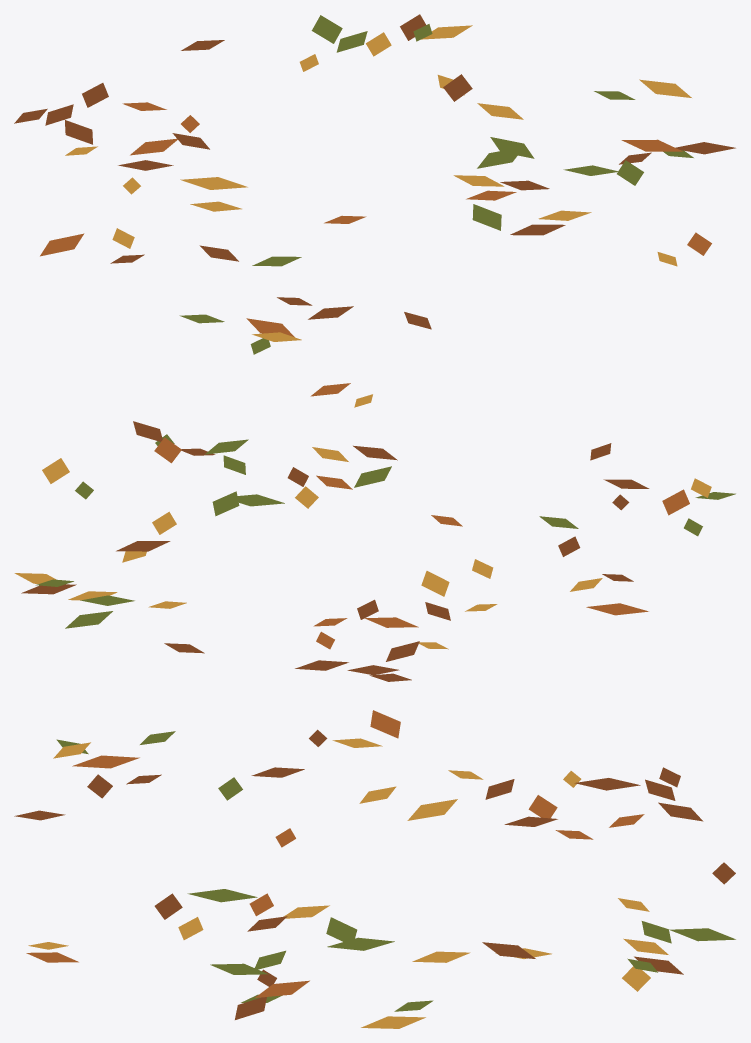
The model's file is Leaf_Litter_A.fbx.
3 views of the same model, one above another, from view 1: azimuth 30°, elevation 25°; view 2: azimuth 150°, elevation 25°; view 3: azimuth 270°, elevation 25° (orthographic). The views are drawn at different scales.
Parts seen in each view (by area): view 1: Leaf_Litter_A.001; view 2: Leaf_Litter_A.001; view 3: Leaf_Litter_A.001.
Part boxes in pixels (bbox=[...]): Leaf_Litter_A.001: bbox=[14, 14, 735, 354]; Leaf_Litter_A.001: bbox=[14, 383, 735, 681]; Leaf_Litter_A.001: bbox=[14, 710, 735, 1028].
Size of the model in its own units: 2.3 by 0.0216 by 2.17.
